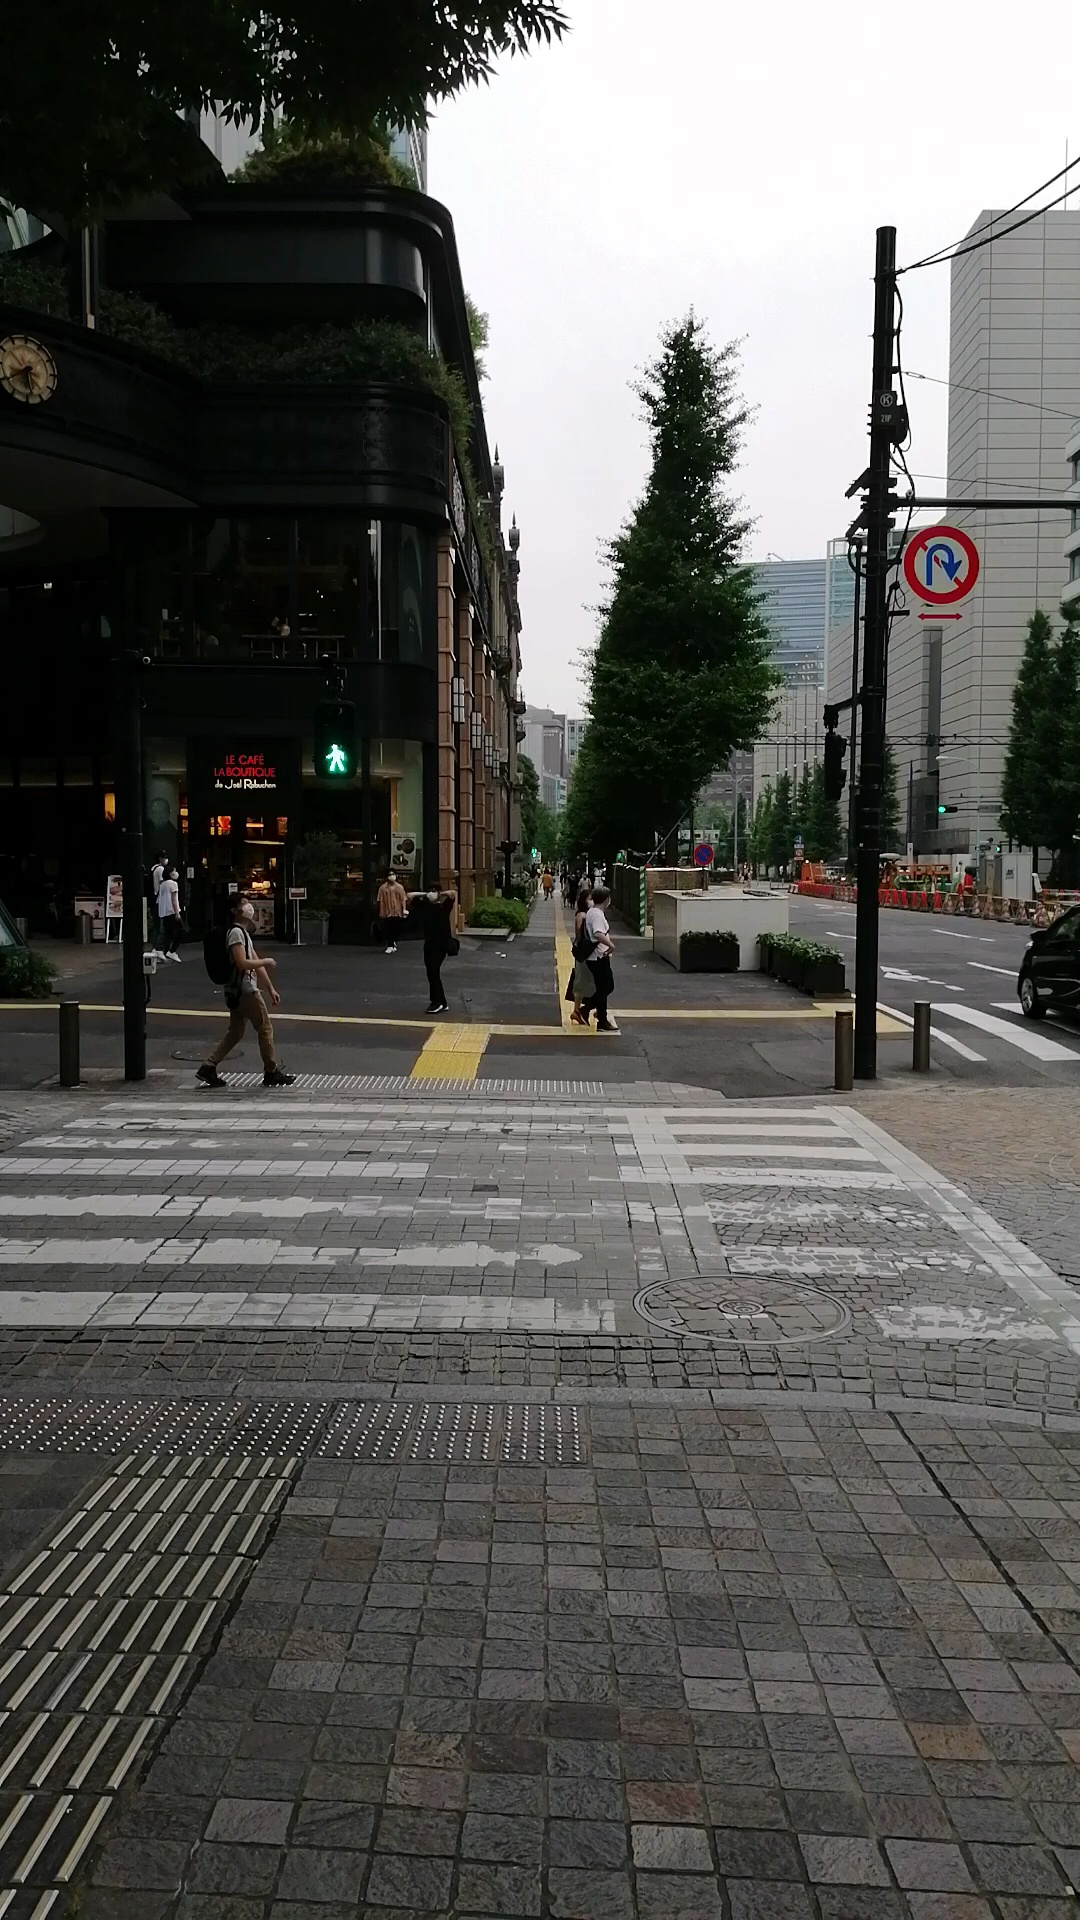green: (313, 694, 360, 786)
